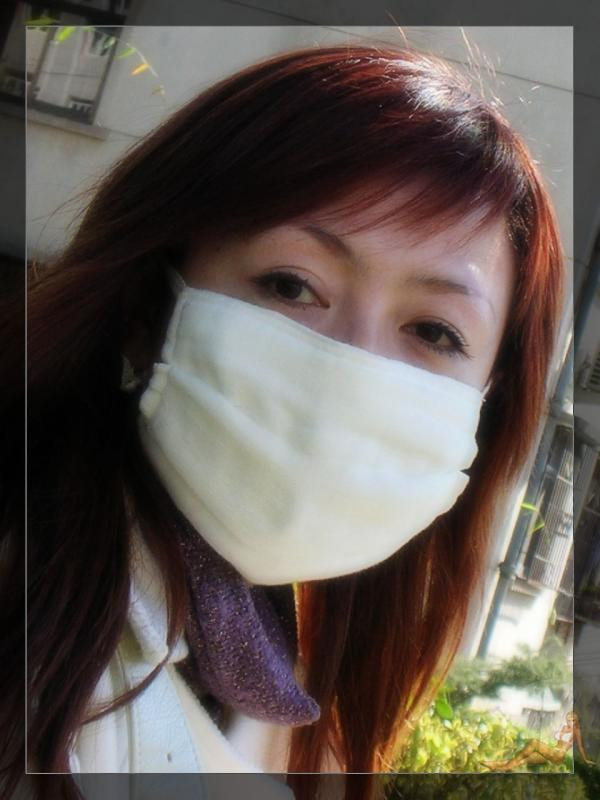face_mask: (181, 139, 505, 592)
